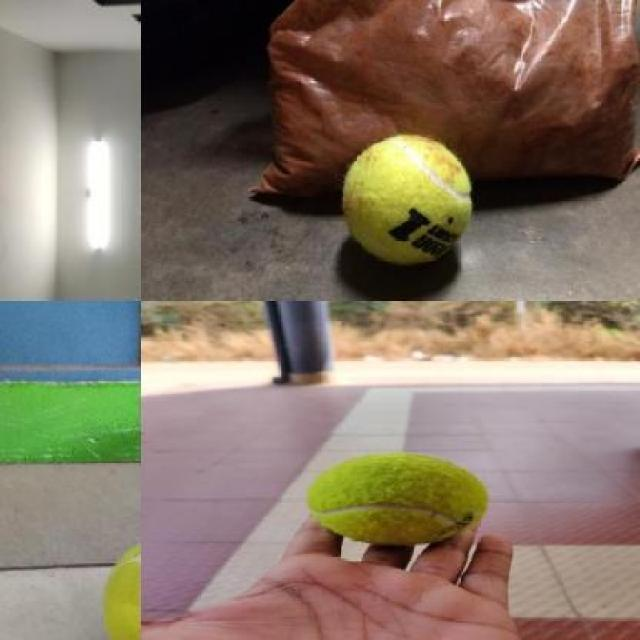-: (340, 123, 523, 308)
